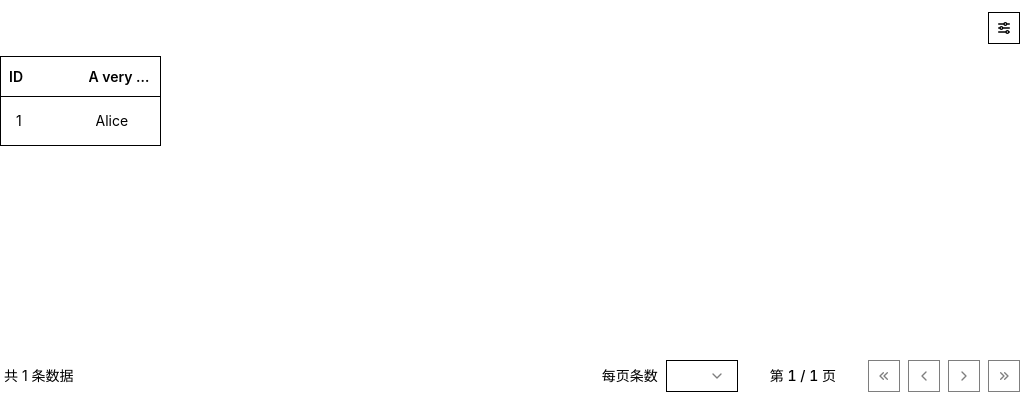
Scenario: DataTable body › shows the shared tooltip on the first hover of overflowing header text
Hover over the text "A very long customer name header".
mouse_move(120, 76)  # box x1=88 y1=66 x2=152 y2=86
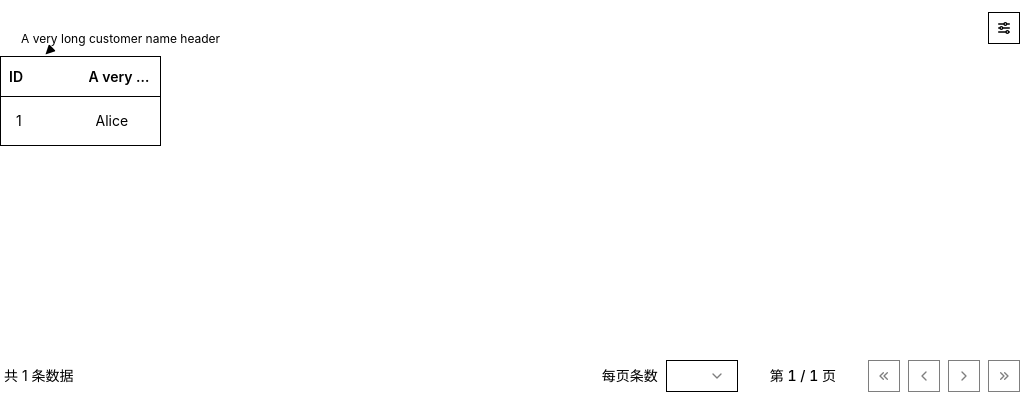
Expected: the tooltip reads "A very long customer name header", x1=21 y1=31 x2=220 y2=46
